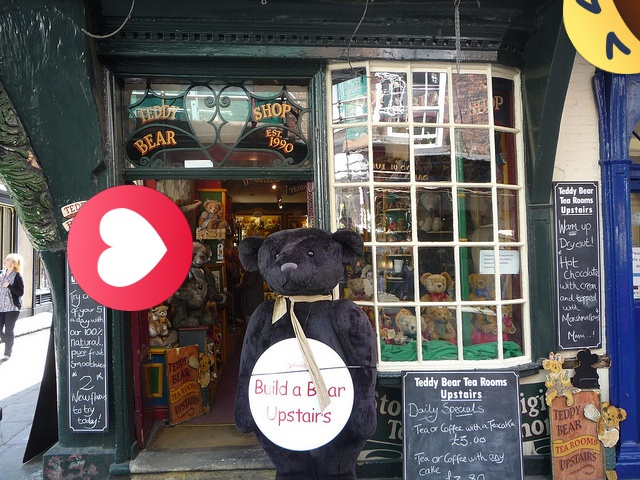haha: (563, 0, 640, 74)
love: (67, 185, 193, 311)
